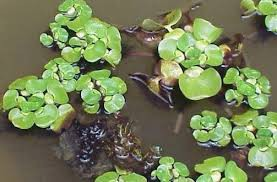water_hyacinth: (4, 1, 277, 182)
